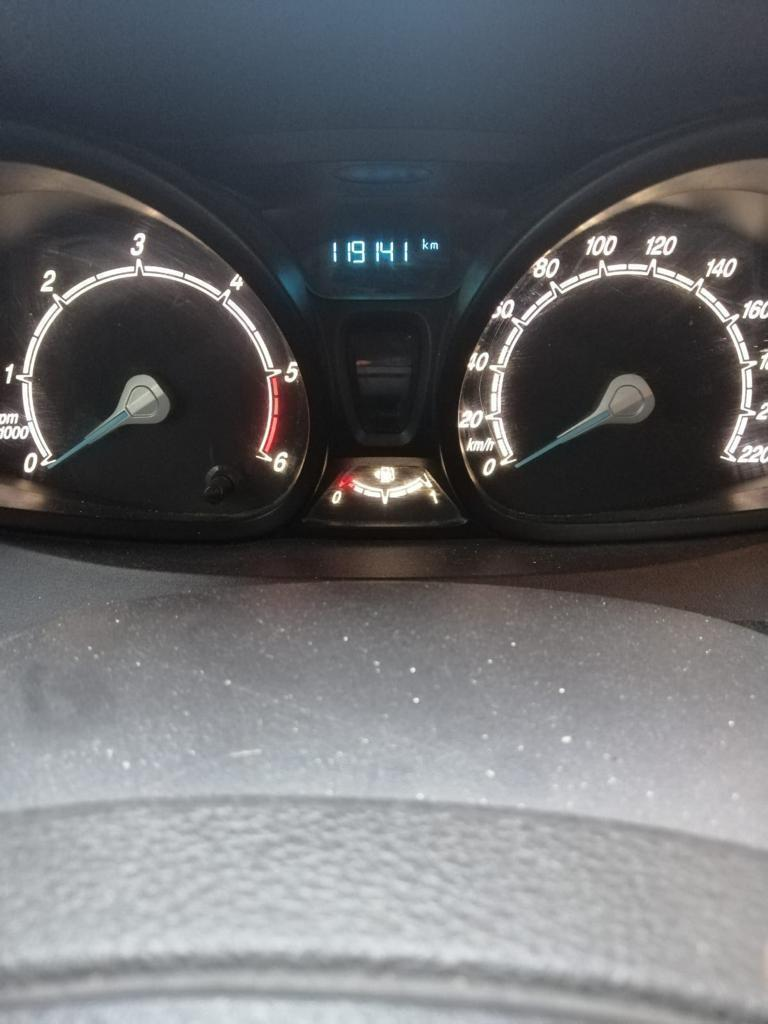1: (402, 238, 410, 264), (331, 239, 338, 264), (374, 240, 380, 264), (346, 240, 352, 263)
4: (380, 239, 396, 263)
9: (352, 239, 366, 263)
X: (429, 241, 439, 250), (422, 237, 428, 250)
odometer: (319, 217, 463, 290)
